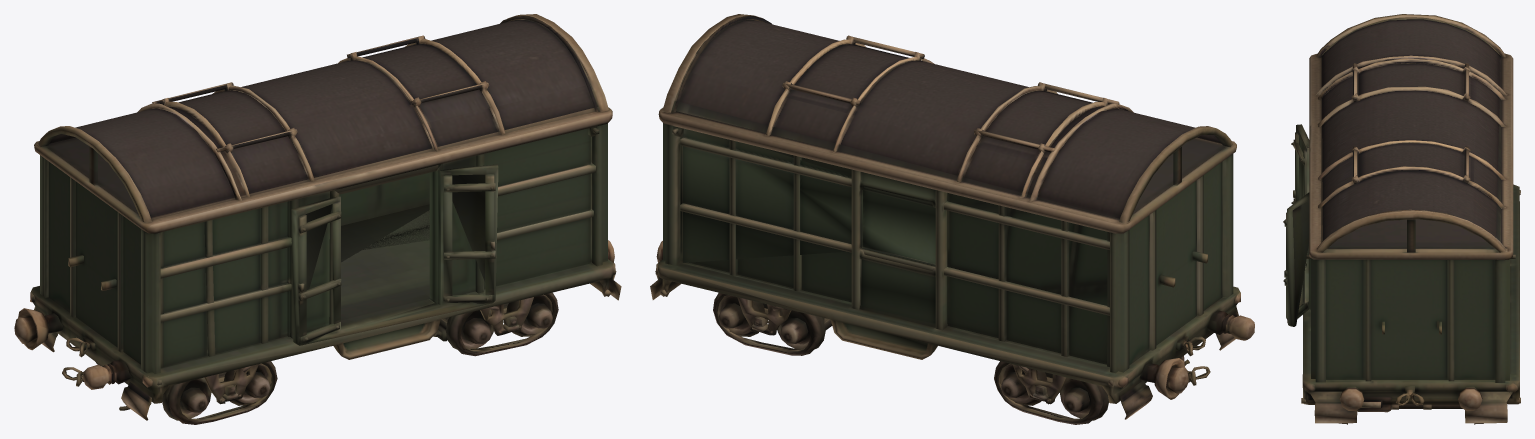
File: freight_open.glb
3 views of the same model, side by side, from view 1: azimuth 30°, elevation 25°; view 2: azimuth 150°, elevation 25°; view 3: azimuth 270°, elevation 25° (orthographic). The views are drawn at different scales.
Visible parts, largest first — view 1: freight_open_LOD0; view 2: freight_open_LOD0; view 3: freight_open_LOD0.
Boxes of the visible parts, bbox=[...] form: freight_open_LOD0: bbox=[14, 14, 621, 424]; freight_open_LOD0: bbox=[650, 14, 1254, 424]; freight_open_LOD0: bbox=[1283, 14, 1520, 424].
Size of what is drawn, in the model's own units: 16 by 7.84 by 7.07.
1 material, 1 textured.
